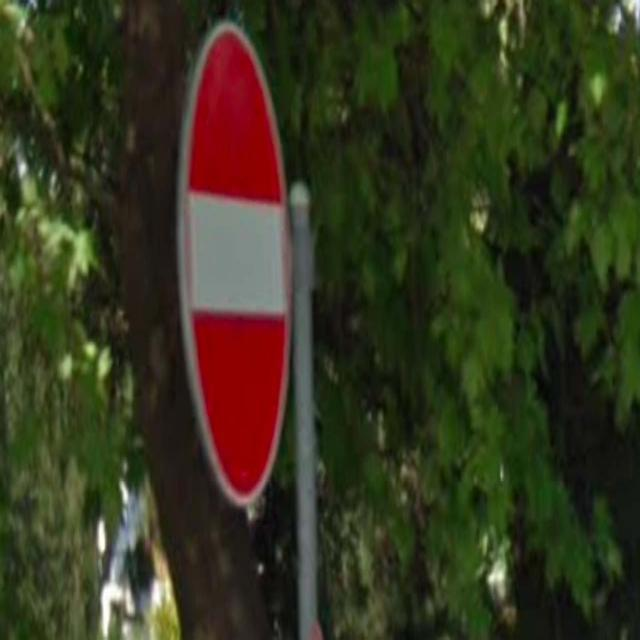girisyok: (181, 22, 295, 511)
